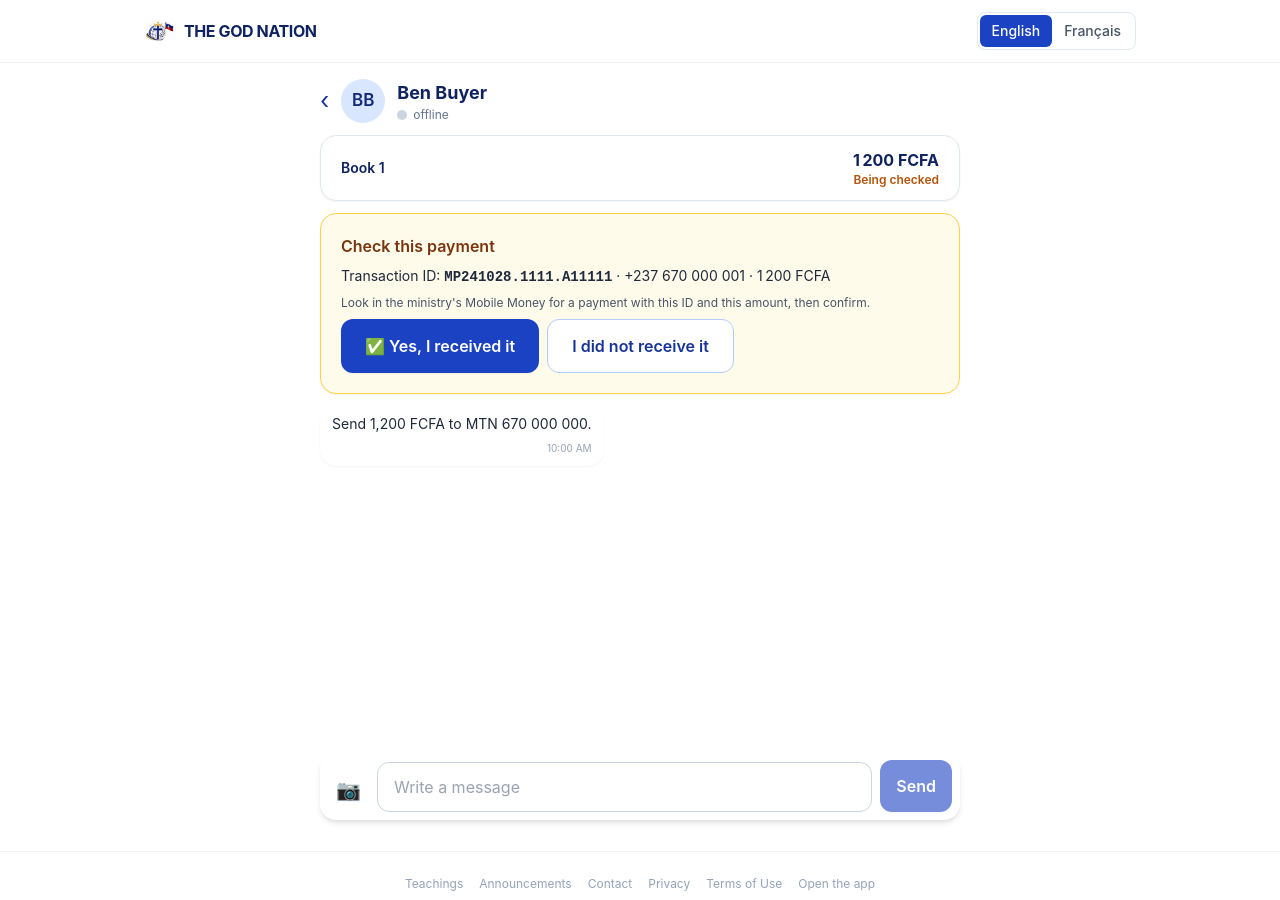
Test: The payment order chat › the agent sees the transaction ID and confirms or says it was not received
Expected: the text "MP241028.1111.A11111" is shown, top-left (444, 269), bottom-right (612, 285)
Expected: the text "+237 670 000 001" is shown, top-left (612, 267), bottom-right (745, 284)
Click the button "✅ Yes, I received it" at (440, 346), box top-left (341, 319), bottom-right (539, 373)
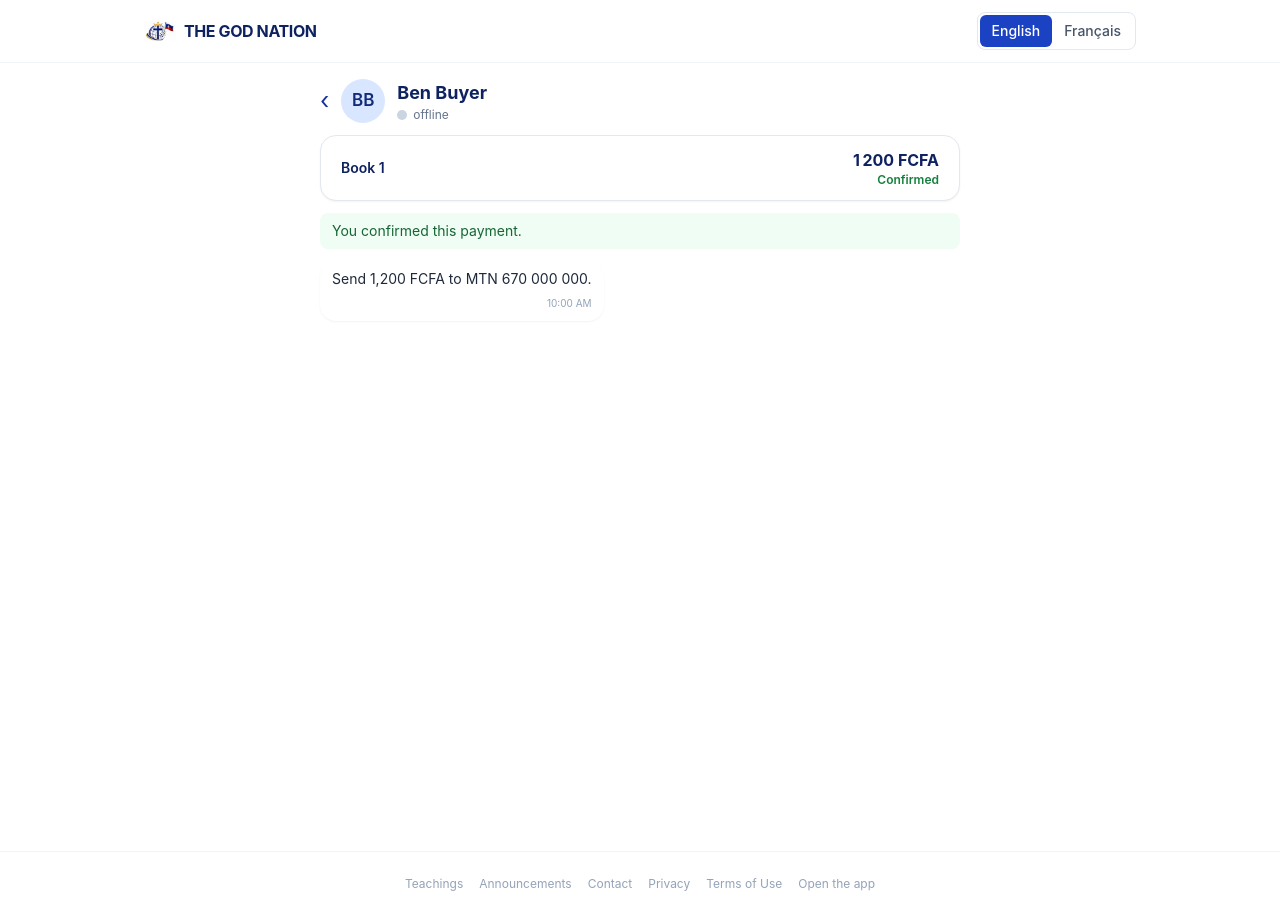
Expected: the text "You confirmed this payment." is shown, top-left (320, 213), bottom-right (960, 249)
